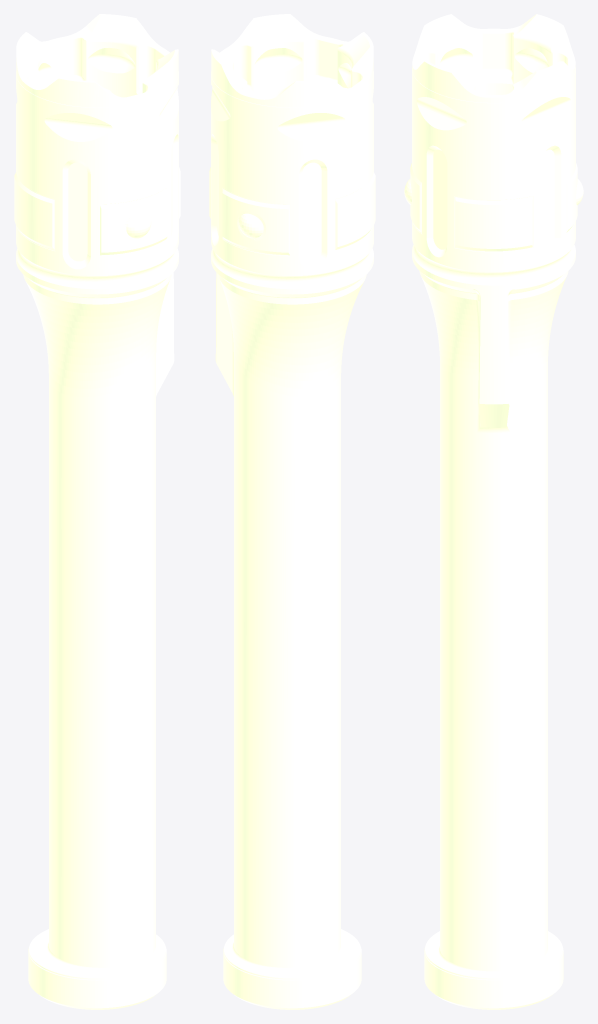
3 renders of one model, left to right at view 1: azimuth 30°, elevation 25°; view 2: azimuth 150°, elevation 25°; view 3: azimuth 270°, elevation 25°, orthographic.
Parts seen in each view (by area): view 1: Mesh_0; view 2: Mesh_0; view 3: Mesh_0.
Boxes of the visible parts, box(x1,y1,x2,y2) form: Mesh_0: box(14, 14, 180, 1009); Mesh_0: box(209, 14, 375, 1009); Mesh_0: box(404, 14, 583, 1009).
Size of the model in its own units: 0.9055 by 5.6 by 0.9681.
